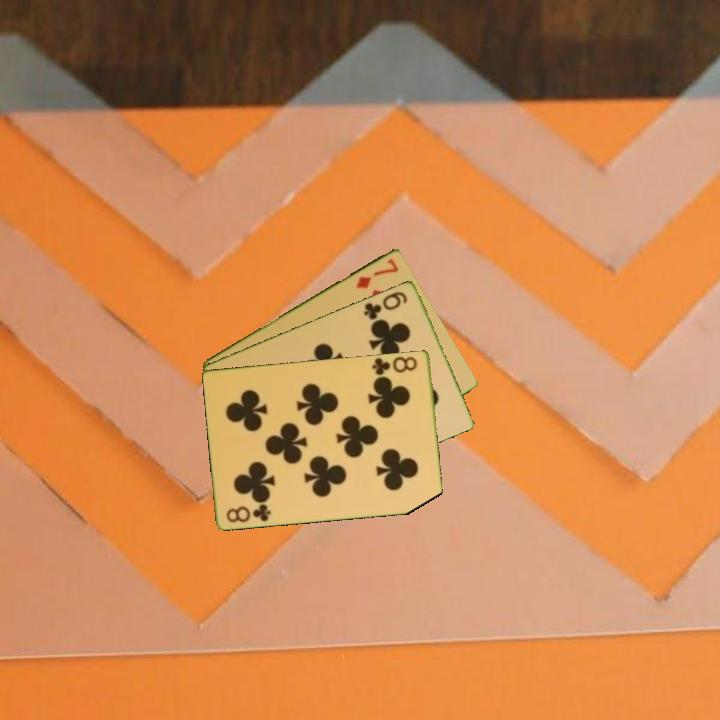6c: (360, 287, 410, 322)
7d: (353, 255, 401, 291)
8c: (369, 353, 420, 380), (223, 500, 274, 525)
